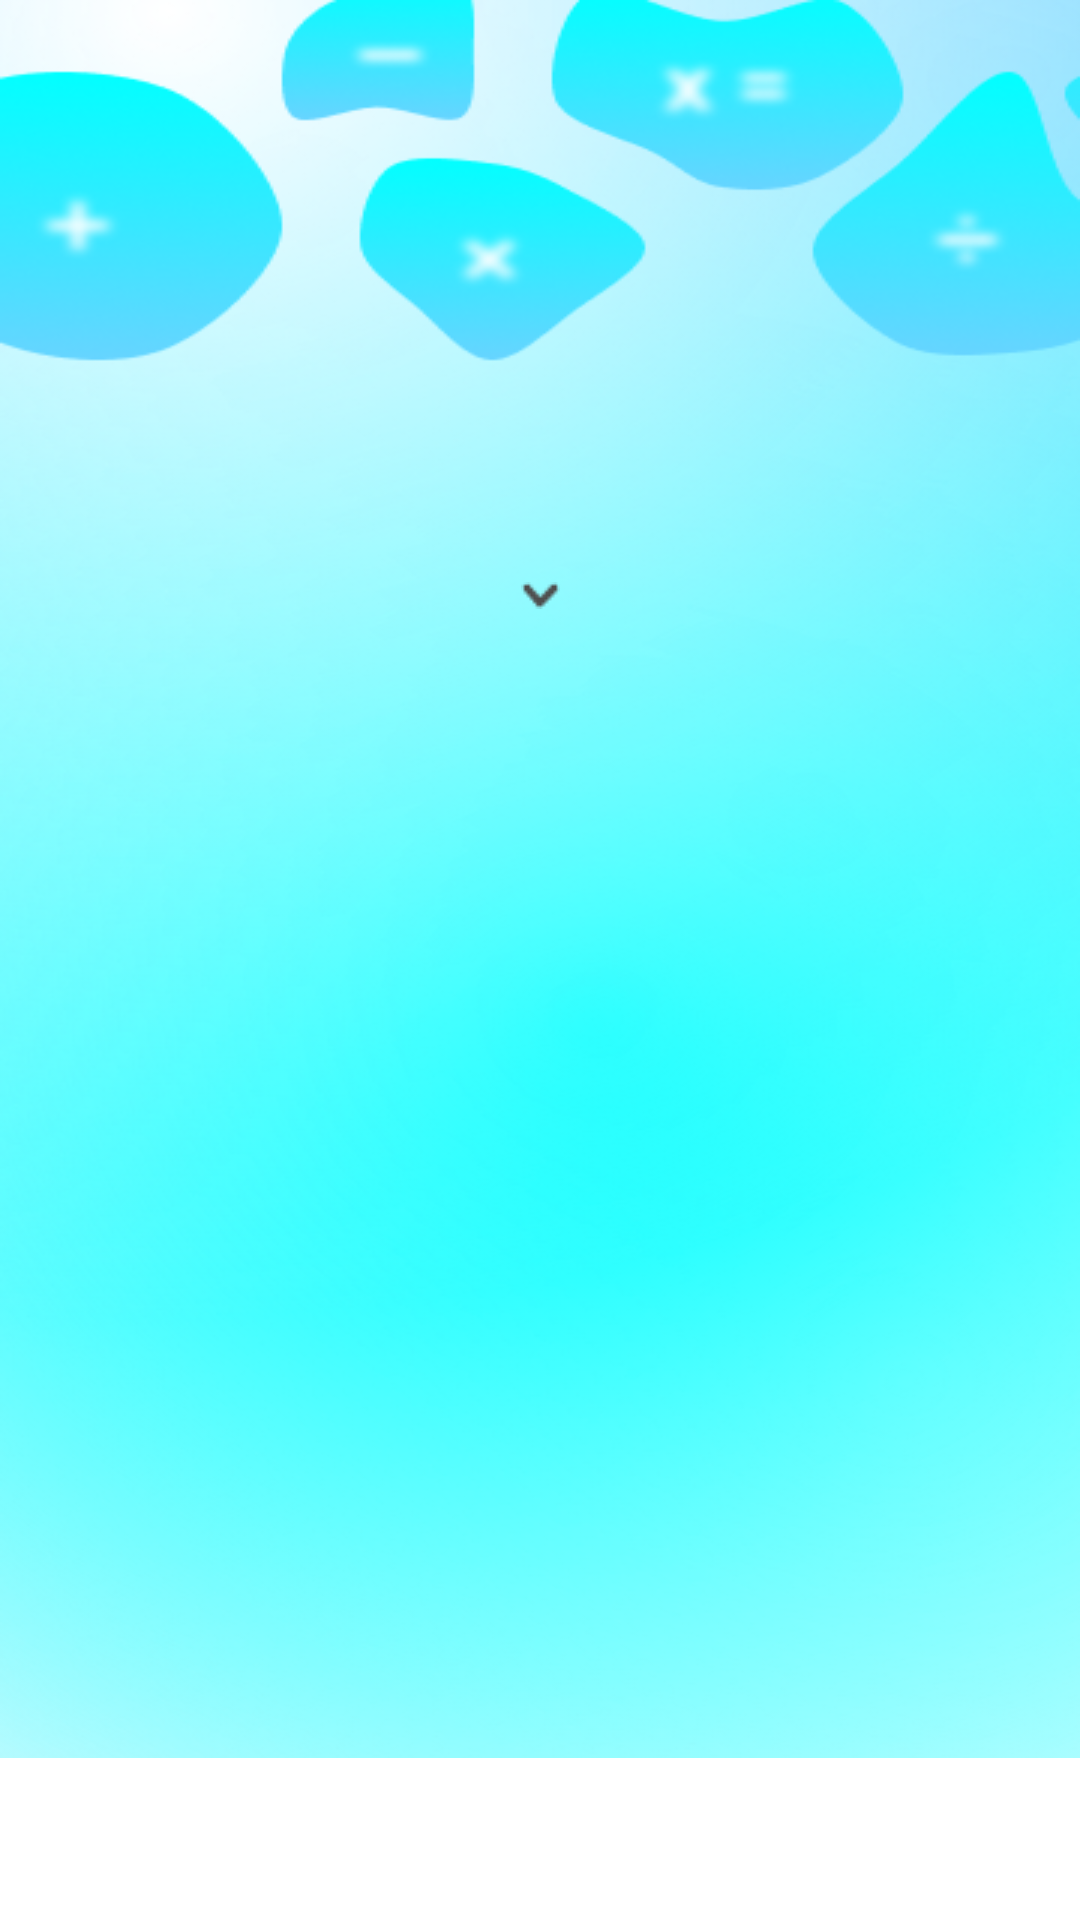

Icon click points for this 1080 x 1920 phone screenshot, format [x,y]:
arrow down: [540,596]
